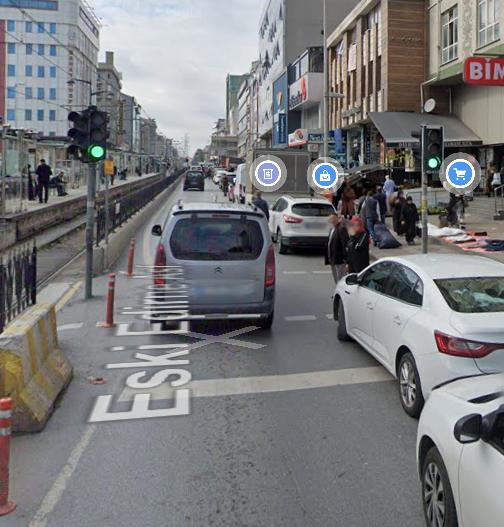greenlight: (84, 107, 109, 162), (423, 125, 441, 170)
